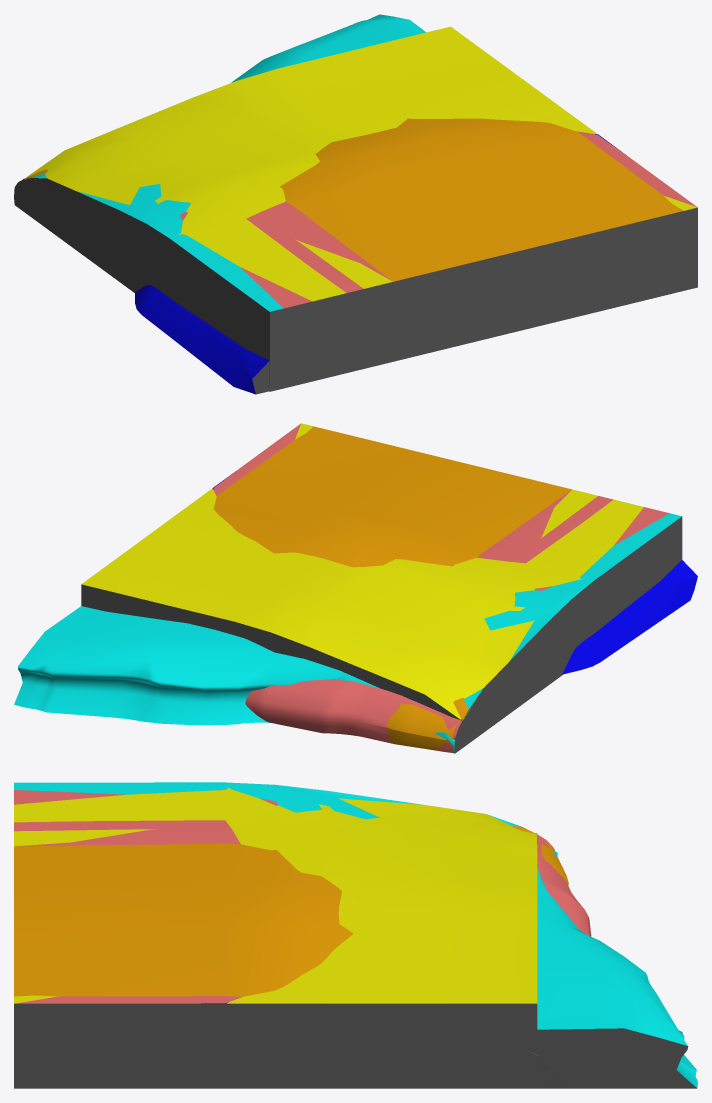
The model's file is tilesRiver.fbx.
3 views of the same model, one above another, from view 1: azimuth 30°, elevation 25°; view 2: azimuth 150°, elevation 25°; view 3: azimuth 270°, elevation 25° (orthographic). The views are drawn at different scales.
Visible parts, largest first — view 1: tile_riverBank6, tile_riverBank2, tile_riverBank1, tile_riverBend, tile_riverBank3, tile_riverBed; view 2: tile_riverBank6, tile_riverBank3, tile_riverBank2, tile_riverBank1, tile_riverBend; view 3: tile_riverBank6, tile_riverBank2, tile_riverBank3, tile_riverBank1, tile_riverBend, tile_riverBed.
Part boxes in pixels (x1,y1,x2,y2): tile_riverBank6: [22, 26, 697, 391]; tile_riverBank2: [14, 118, 683, 281]; tile_riverBank1: [14, 131, 697, 391]; tile_riverBend: [135, 134, 697, 394]; tile_riverBank3: [14, 14, 697, 390]; tile_riverBed: [22, 178, 697, 391]; tile_riverBank6: [81, 423, 643, 741]; tile_riverBank3: [14, 513, 682, 753]; tile_riverBank2: [213, 426, 571, 749]; tile_riverBank1: [213, 423, 669, 752]; tile_riverBend: [212, 471, 697, 674]; tile_riverBank6: [14, 787, 537, 1088]; tile_riverBank2: [14, 825, 568, 996]; tile_riverBank3: [14, 782, 697, 1088]; tile_riverBank1: [14, 789, 591, 1088]; tile_riverBend: [14, 1002, 562, 1087]; tile_riverBed: [14, 833, 537, 1088].
Bounding box in the file's own units: 6.32 × 1.25 × 7.84.
